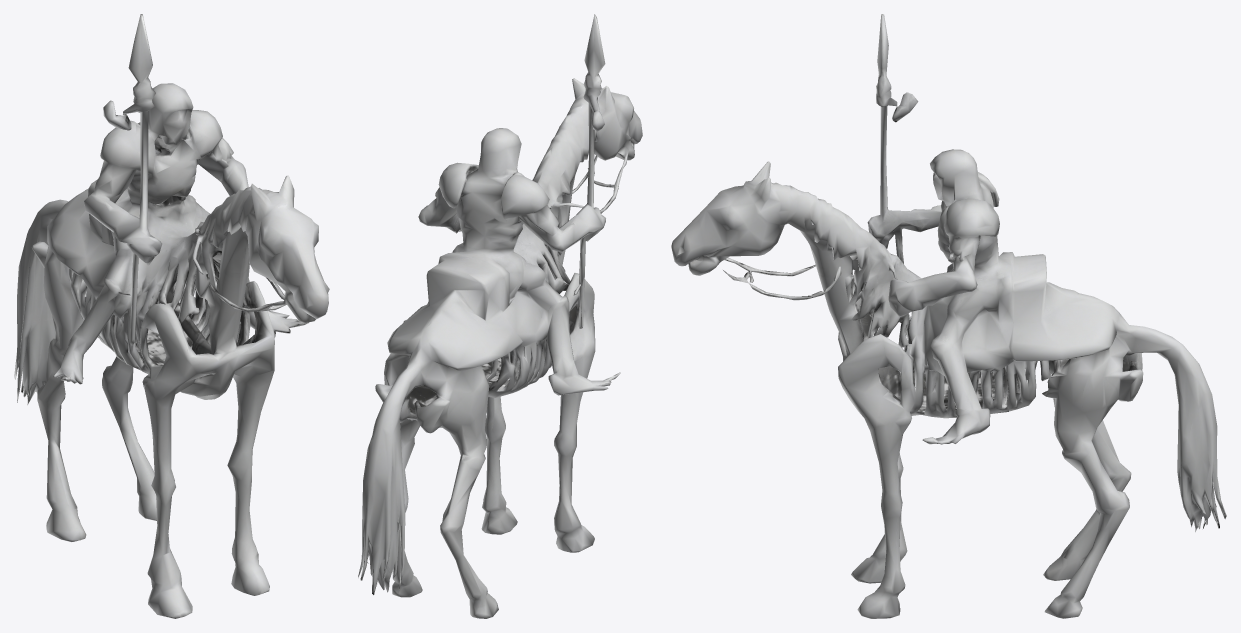
Rendered from Knight.fbx.
The picture shows the model from 3 angles, left to right: view 1: azimuth 30°, elevation 25°; view 2: azimuth 150°, elevation 25°; view 3: azimuth 270°, elevation 25°; orthographic projection. The views are drawn at different scales.
Visible parts, largest first — view 1: Mesh_0; view 2: Mesh_0; view 3: Mesh_0.
Part boxes in pixels (bbox=[...]): Mesh_0: bbox=[14, 14, 329, 618]; Mesh_0: bbox=[358, 14, 642, 618]; Mesh_0: bbox=[671, 14, 1226, 618].
Bounding box in the file's own units: 85.09 × 200 × 183.
Materials: 1 (1 with a texture image).
